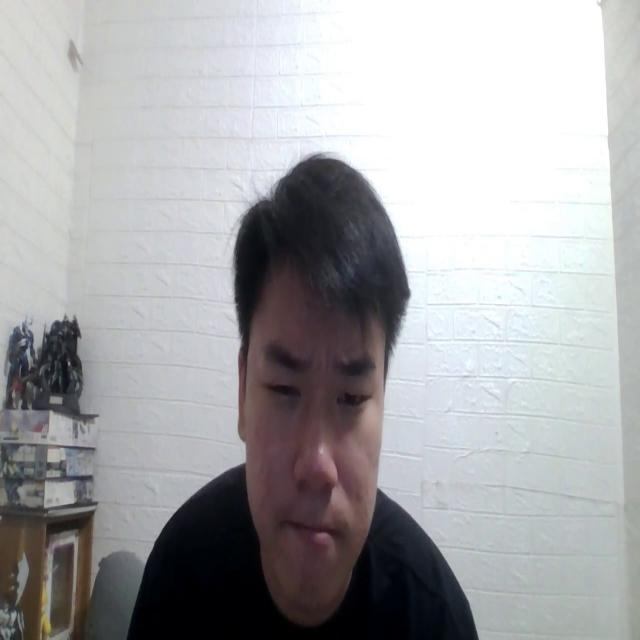student: (128, 148, 480, 640)
